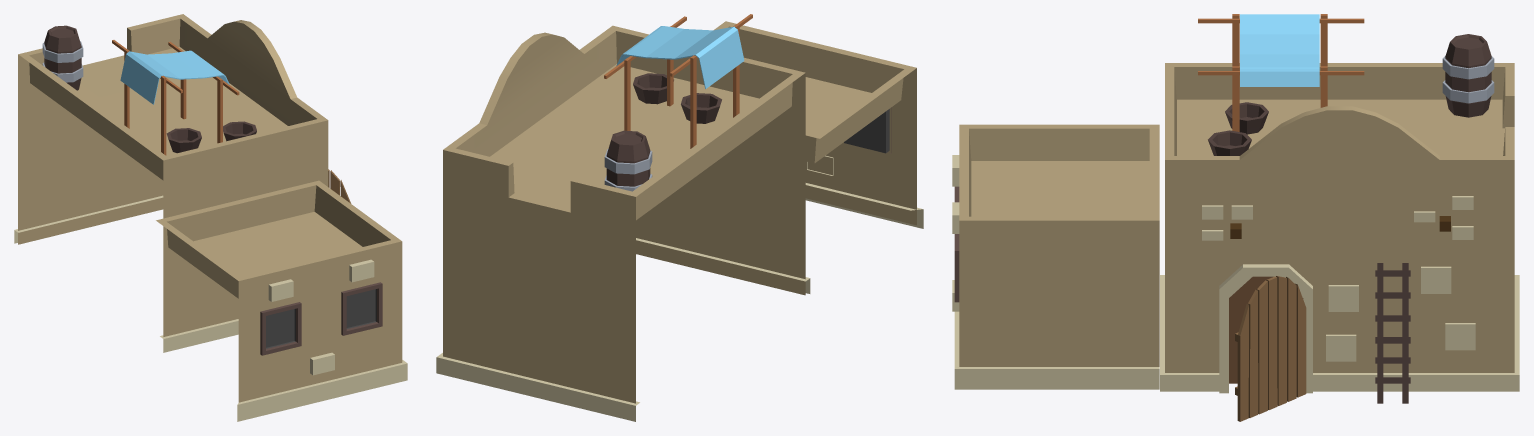
File: fangzi02.FBX
3 renders of one model, left to right at view 1: azimuth 30°, elevation 25°; view 2: azimuth 150°, elevation 25°; view 3: azimuth 270°, elevation 25°, orthographic. The views are drawn at different scales.
Parts seen in each view (by area): view 1: fangzi02; view 2: fangzi02; view 3: fangzi02.
Boxes of the visible parts, left/top/right/bottom form: fangzi02: left=14, top=14, right=407, bottom=421; fangzi02: left=436, top=14, right=923, bottom=421; fangzi02: left=952, top=14, right=1519, bottom=421.
Bounding box in the file's own units: 938 × 960 × 1644.
